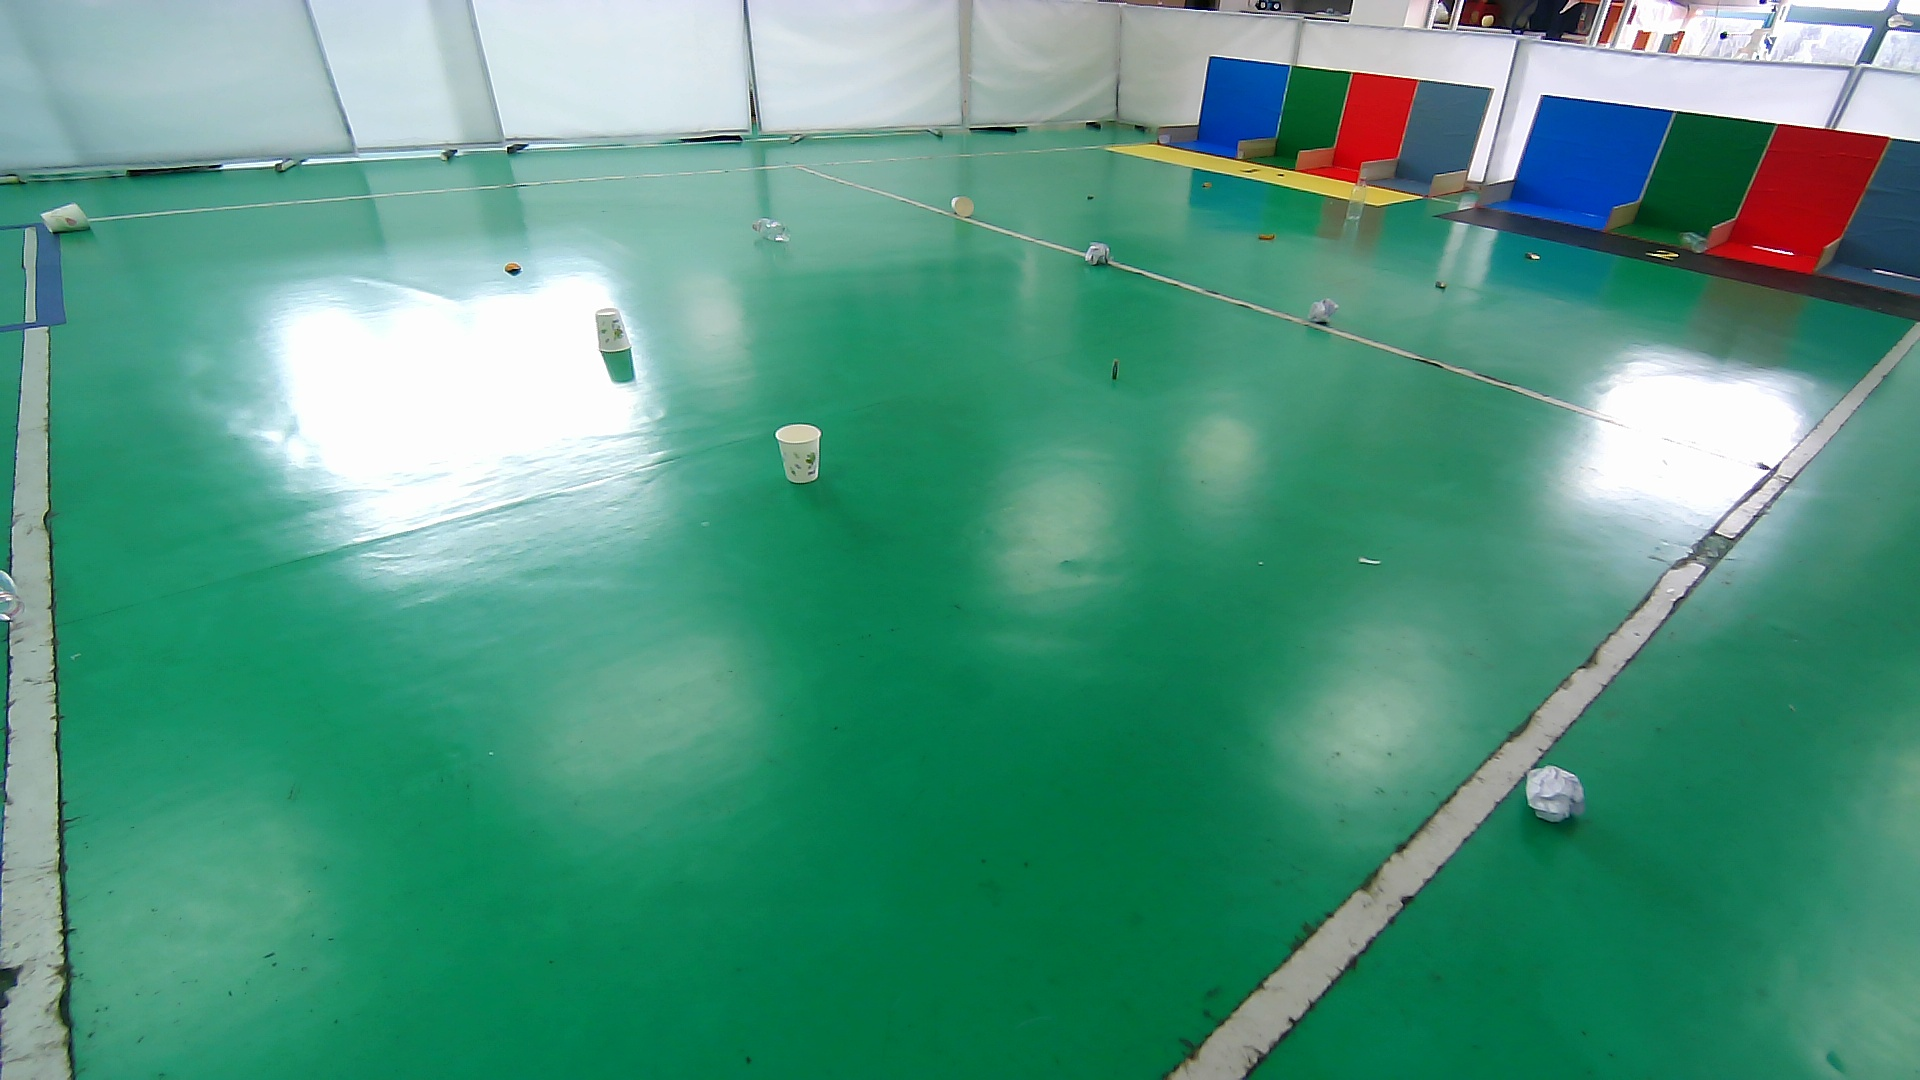battery: (1105, 352, 1126, 388), (1429, 272, 1455, 298), (1077, 186, 1102, 208)
bottle: (746, 212, 795, 244), (1341, 175, 1369, 224), (1673, 228, 1712, 255)
orangepeel: (498, 257, 530, 278), (1193, 174, 1222, 195), (1253, 229, 1283, 244)
papercup: (770, 417, 829, 488), (587, 303, 637, 359), (38, 200, 96, 236), (948, 191, 977, 218)
spitball: (1522, 764, 1588, 825), (1302, 297, 1341, 328), (1083, 240, 1114, 269)
